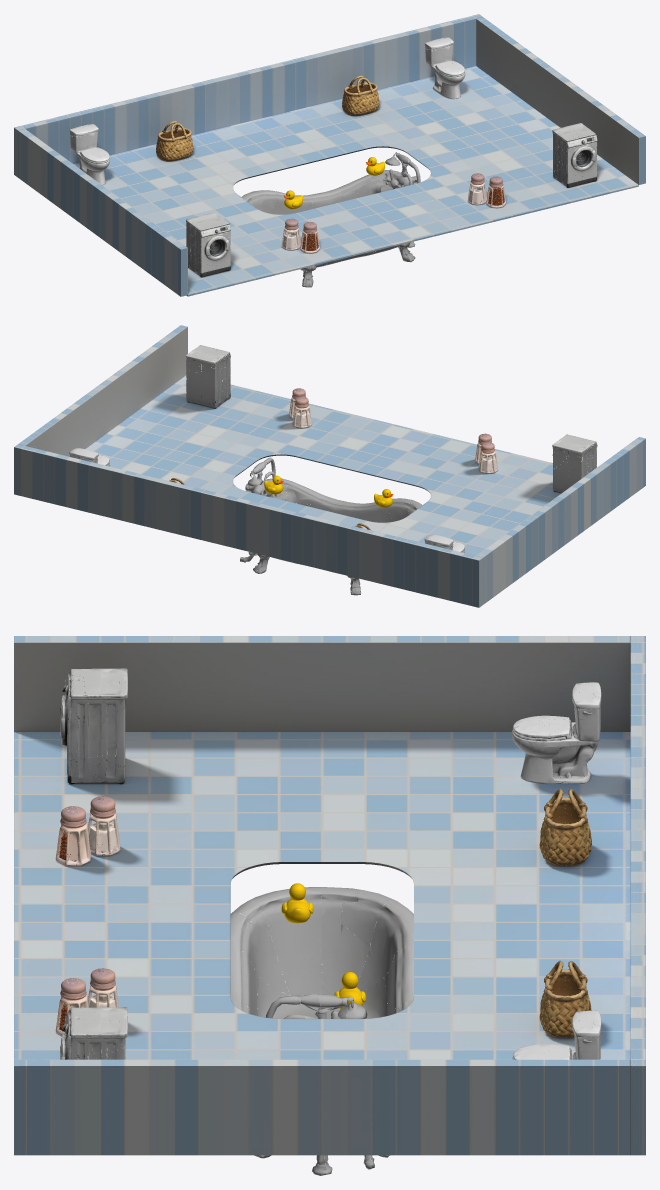
File: escena.glb
The picture shows the model from 3 angles, top to bottom: view 1: azimuth 30°, elevation 25°; view 2: azimuth 150°, elevation 25°; view 3: azimuth 270°, elevation 25°; orthographic projection. The views are drawn at different scales.
Parts seen in each view (by area): view 1: HORNEADO_suelo, HORNEADO_pared_fondo, HORNEADO_pared_izq, HORNEADO_pared_der, banera, lavadora_d, lavadora_i, vater_d, vater_i, cesto_d, cesto_i, botes_d (+1 smaller); view 2: HORNEADO_suelo, HORNEADO_pared_fondo, HORNEADO_pared_izq, HORNEADO_pared_der, banera, lavadora_d, lavadora_i, botes_i, botes_d, vater_d, vater_i; view 3: HORNEADO_suelo, HORNEADO_pared_der, HORNEADO_pared_izq, banera, HORNEADO_pared_fondo, lavadora_i, vater_i, lavadora_d, botes_i, cesto_i, cesto_d, vater_d (+2 smaller).
Part boxes in pixels (x1,y1,x2,y2): HORNEADO_suelo: (73, 66, 638, 296); HORNEADO_pared_fondo: (14, 14, 482, 177); HORNEADO_pared_izq: (18, 129, 187, 296); HORNEADO_pared_der: (476, 17, 645, 184); banera: (241, 152, 420, 287); lavadora_d: (552, 123, 597, 187); lavadora_i: (186, 212, 230, 277); vater_d: (424, 37, 465, 98); vater_i: (69, 124, 109, 185); cesto_d: (342, 75, 379, 115); cesto_i: (156, 121, 193, 161); botes_d: (467, 173, 505, 208); HORNEADO_suelo: (79, 375, 588, 555); HORNEADO_pared_fondo: (14, 444, 483, 607); HORNEADO_pared_izq: (476, 437, 645, 604); HORNEADO_pared_der: (18, 325, 187, 456); banera: (240, 457, 422, 595); lavadora_d: (186, 345, 230, 408); lavadora_i: (552, 434, 597, 492); botes_i: (475, 433, 498, 473); botes_d: (289, 388, 312, 428); vater_d: (69, 448, 109, 466); vater_i: (424, 534, 464, 552); HORNEADO_suelo: (14, 732, 630, 1059); HORNEADO_pared_der: (14, 1059, 630, 1155); HORNEADO_pared_izq: (14, 636, 630, 731); banera: (230, 887, 413, 1175); HORNEADO_pared_fondo: (630, 636, 645, 1155); lavadora_i: (60, 668, 127, 784); vater_i: (512, 682, 601, 783); lavadora_d: (60, 1007, 127, 1059); botes_i: (55, 796, 120, 866); cesto_i: (539, 788, 591, 865); cesto_d: (539, 960, 591, 1037); vater_d: (512, 1010, 601, 1059).
Bounding box in the file's own units: 33 × 8.95 × 20.5.
10 materials, 10 textured.
